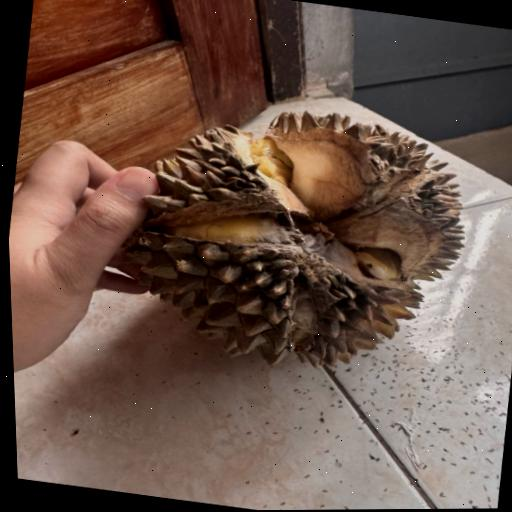rot: (55, 51, 512, 417)
